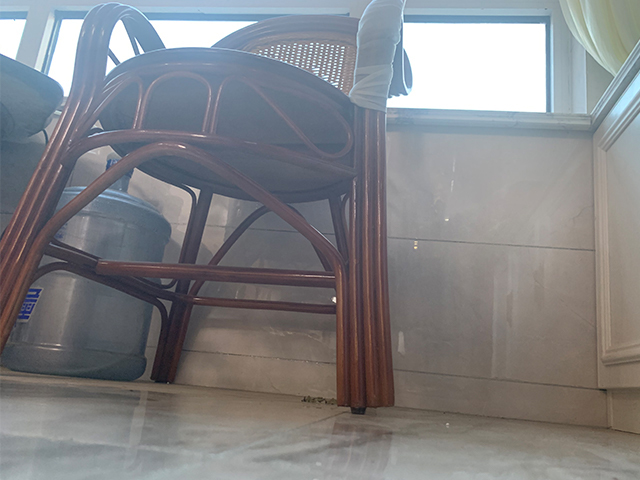stool: (1, 1, 413, 415)
